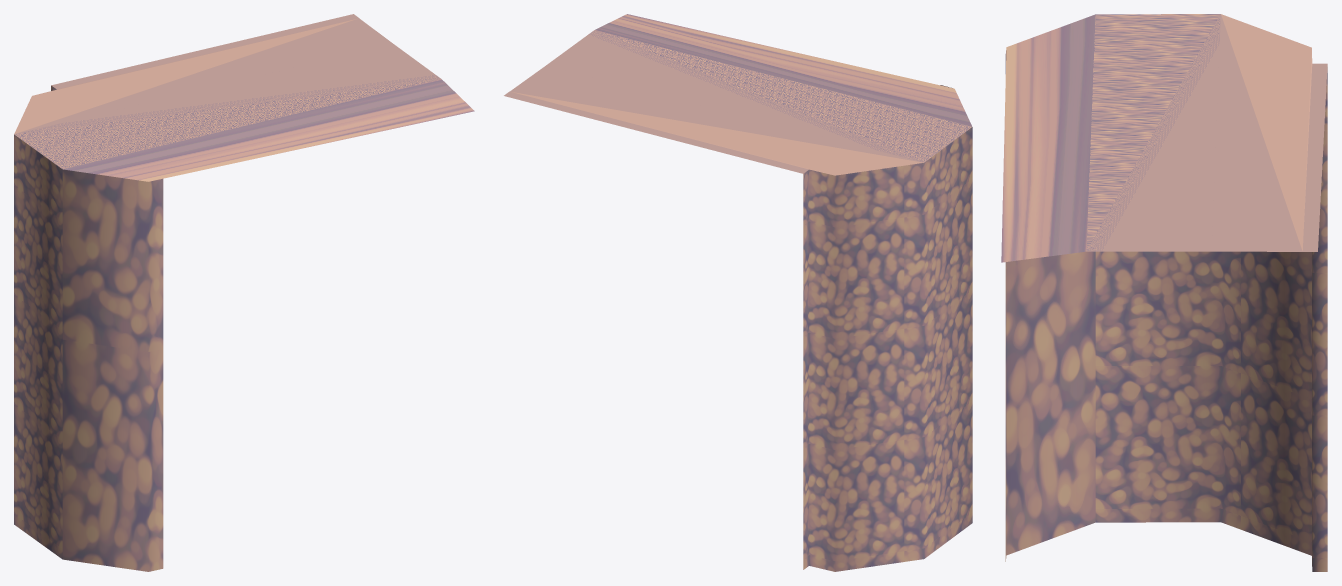
The model's file is Terrain1_side_colider.fbx.
The picture shows the model from 3 angles, left to right: view 1: azimuth 30°, elevation 25°; view 2: azimuth 150°, elevation 25°; view 3: azimuth 270°, elevation 25°; orthographic projection. The views are drawn at different scales.
Parts seen in each view (by area): view 1: Terrain1_side_colider; view 2: Terrain1_side_colider; view 3: Terrain1_side_colider.
Part boxes in pixels (<box>): Terrain1_side_colider: <box>14,14,474,571</box>; Terrain1_side_colider: <box>504,14,972,571</box>; Terrain1_side_colider: <box>1001,14,1327,571</box>.
Size of the model in its own units: 4621 by 4584 by 2659.
Materials: 1 (1 with a texture image).
